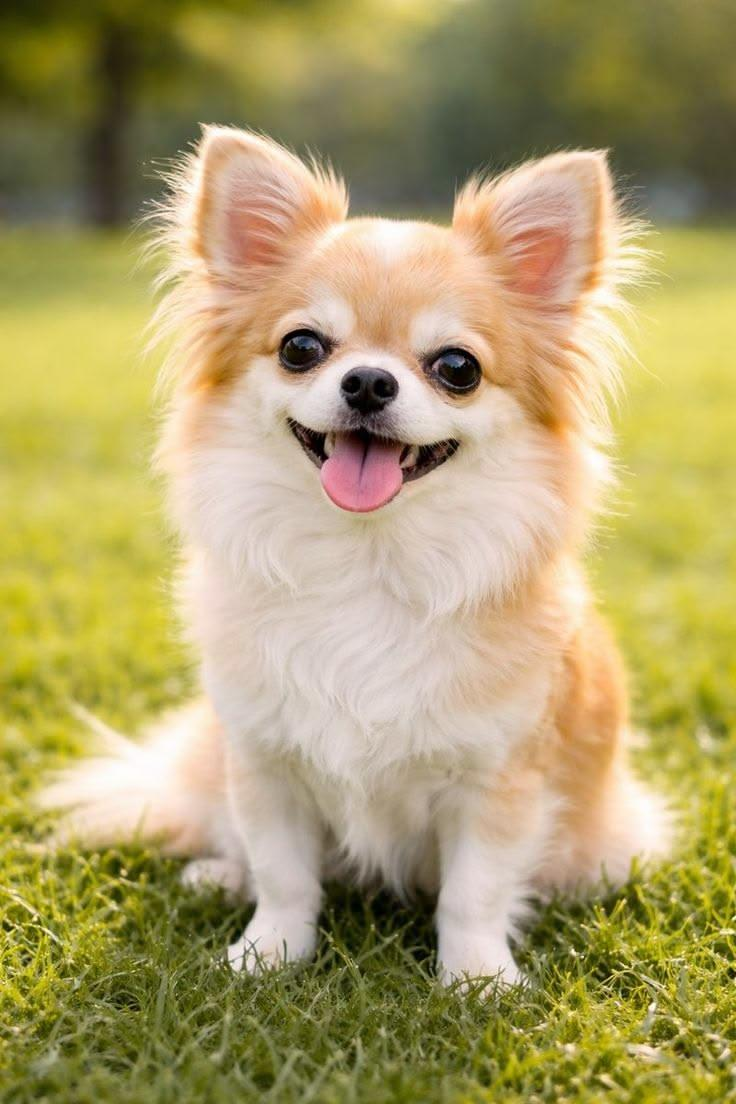dog: (46, 128, 665, 981)
